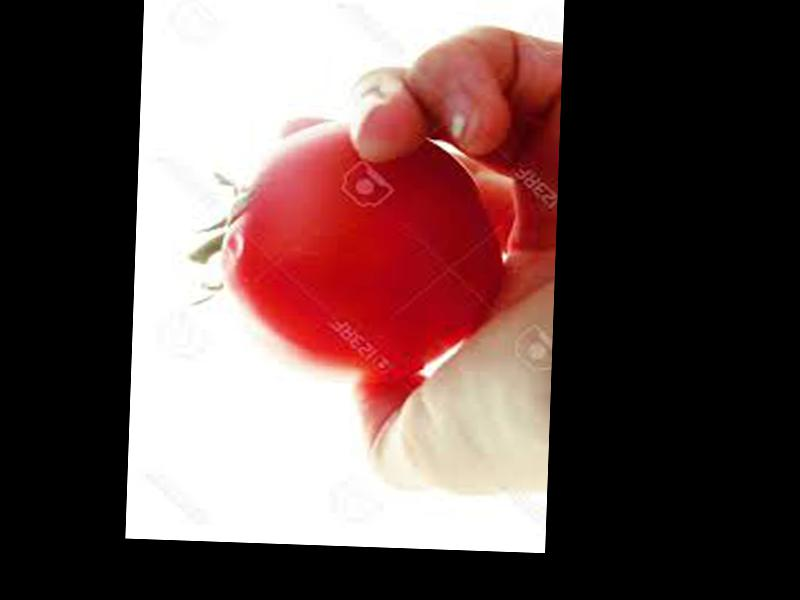Tomato: (214, 115, 502, 383)
